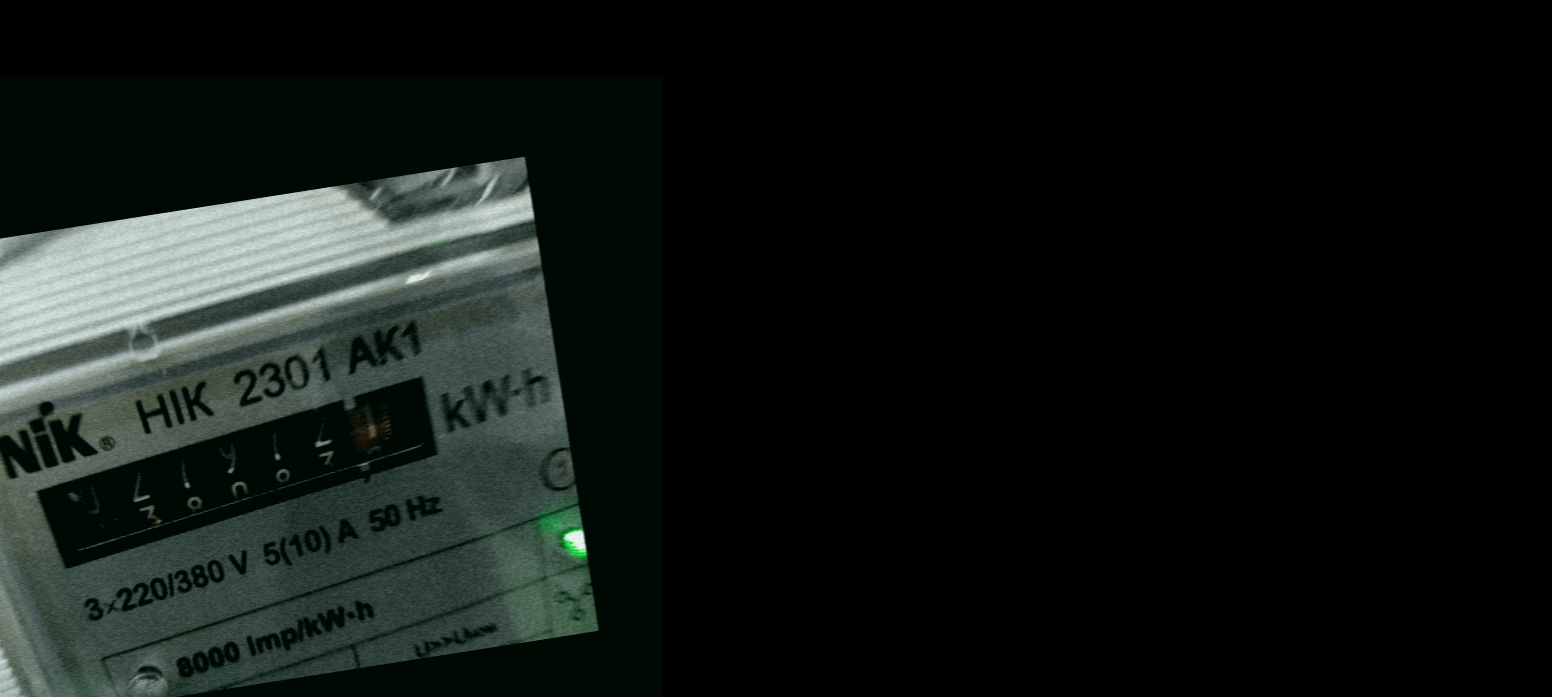0: (72, 480, 105, 520)
1: (356, 399, 384, 445)
2: (119, 463, 154, 506), (303, 410, 337, 451)
7: (258, 423, 290, 467), (168, 453, 197, 494)
9: (214, 439, 245, 477)
screen: (10, 362, 480, 584)
